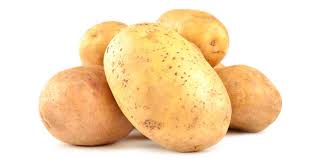potato: (108, 25, 233, 141), (38, 63, 138, 143)
